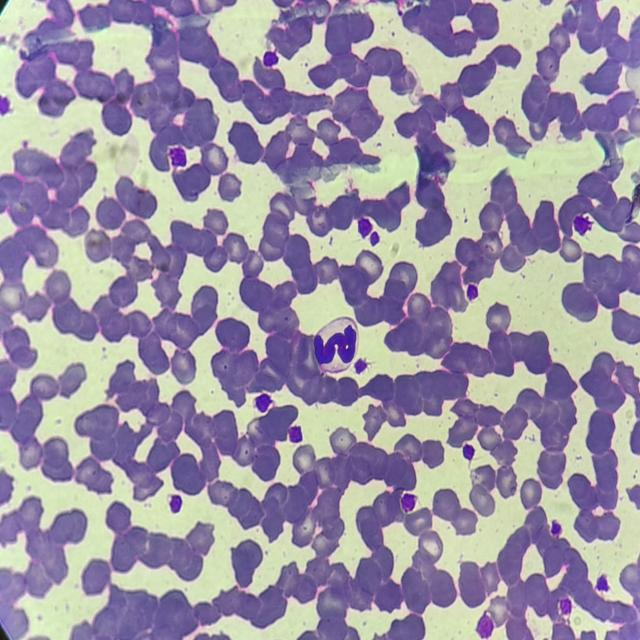Neutrofilo: (312, 313, 359, 373)
